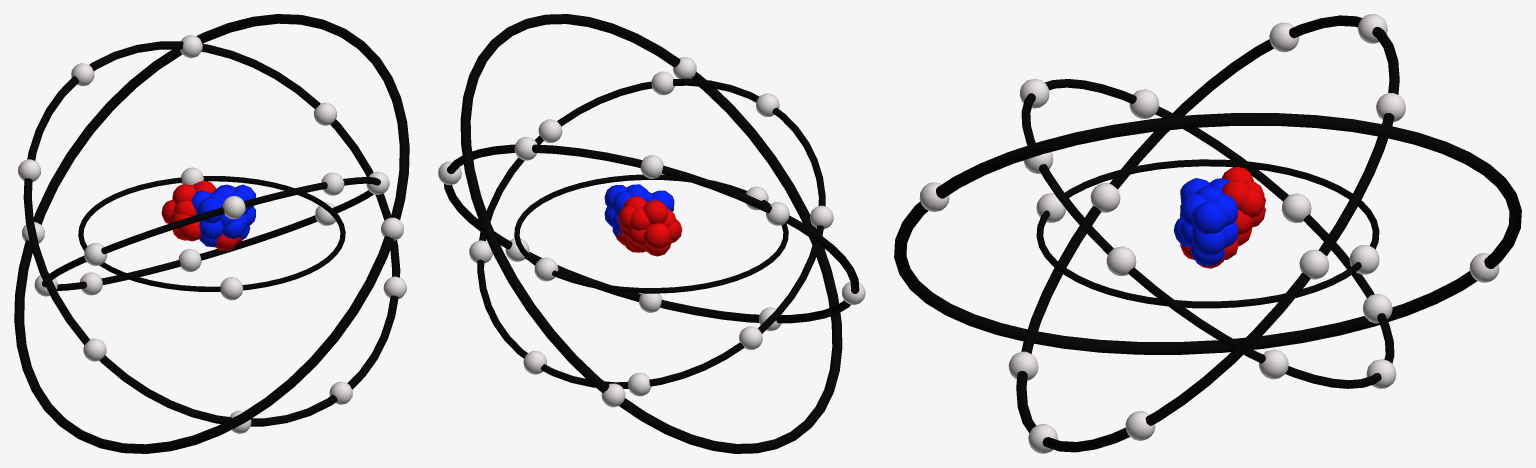
The model's file is 20 Calcio.fbx.
3 renders of one model, left to right at view 1: azimuth 30°, elevation 25°; view 2: azimuth 150°, elevation 25°; view 3: azimuth 270°, elevation 25°, orthographic. The views are drawn at different scales.
Visible parts, largest first — view 1: Orbita.004, Orbita.003, Orbita.002, Orbita.001, Neutron.008, Neutron.001, Electron, Neutron.005, Electron.009, Electron.013, Electron.004, Electron.016 (+9 smaller); view 2: Orbita.004, Orbita.003, Orbita.002, Orbita.001, Neutron.005, Neutron.006, Sphere.008, Electron.010, Electron.006, Electron.003, Electron.005, Electron.002 (+7 smaller); view 3: Orbita.004, Orbita.003, Orbita.002, Orbita.001, Neutron.006, Neutron.003, Electron.010, Electron.013, Electron.006, Electron.016, Electron.008, Electron.007 (+6 smaller).
Boxes of the visible parts, box(x1,y1,x2,y2) form: Orbita.004: box(14, 14, 409, 453); Orbita.003: box(23, 41, 400, 426); Orbita.002: box(42, 177, 380, 290); Orbita.001: box(78, 176, 345, 291); Neutron.008: box(191, 190, 224, 223); Neutron.001: box(199, 220, 223, 247); Electron: box(220, 277, 243, 300); Neutron.005: box(161, 199, 191, 240); Electron.009: box(222, 196, 245, 219); Electron.013: box(83, 338, 106, 361); Electron.004: box(178, 249, 201, 271); Electron.016: box(313, 102, 336, 125); Orbita.004: box(460, 14, 842, 453); Orbita.003: box(444, 144, 859, 323); Orbita.002: box(477, 78, 825, 388); Orbita.001: box(514, 174, 788, 293); Neutron.005: box(643, 219, 680, 256); Neutron.006: box(604, 184, 647, 215); Sphere.008: box(643, 200, 668, 224); Electron.010: box(538, 119, 562, 142); Electron.006: box(739, 326, 762, 349); Electron.003: box(628, 372, 651, 396); Electron.005: box(640, 155, 663, 178); Electron.002: box(651, 71, 674, 95); Orbita.004: box(894, 113, 1521, 354); Orbita.003: box(1016, 15, 1399, 452); Orbita.002: box(1021, 79, 1394, 388); Orbita.001: box(1036, 159, 1379, 308); Neutron.006: box(1180, 193, 1238, 234); Neutron.003: box(1180, 221, 1238, 266); Electron.010: box(1106, 246, 1136, 275); Electron.013: box(1090, 183, 1120, 212); Electron.006: box(1281, 193, 1311, 222); Electron.016: box(1299, 249, 1329, 279); Electron.008: box(1259, 349, 1288, 379); Electron.007: box(1129, 89, 1159, 118).
Size of the model in its own units: 14.17 by 12.09 by 10.42.
